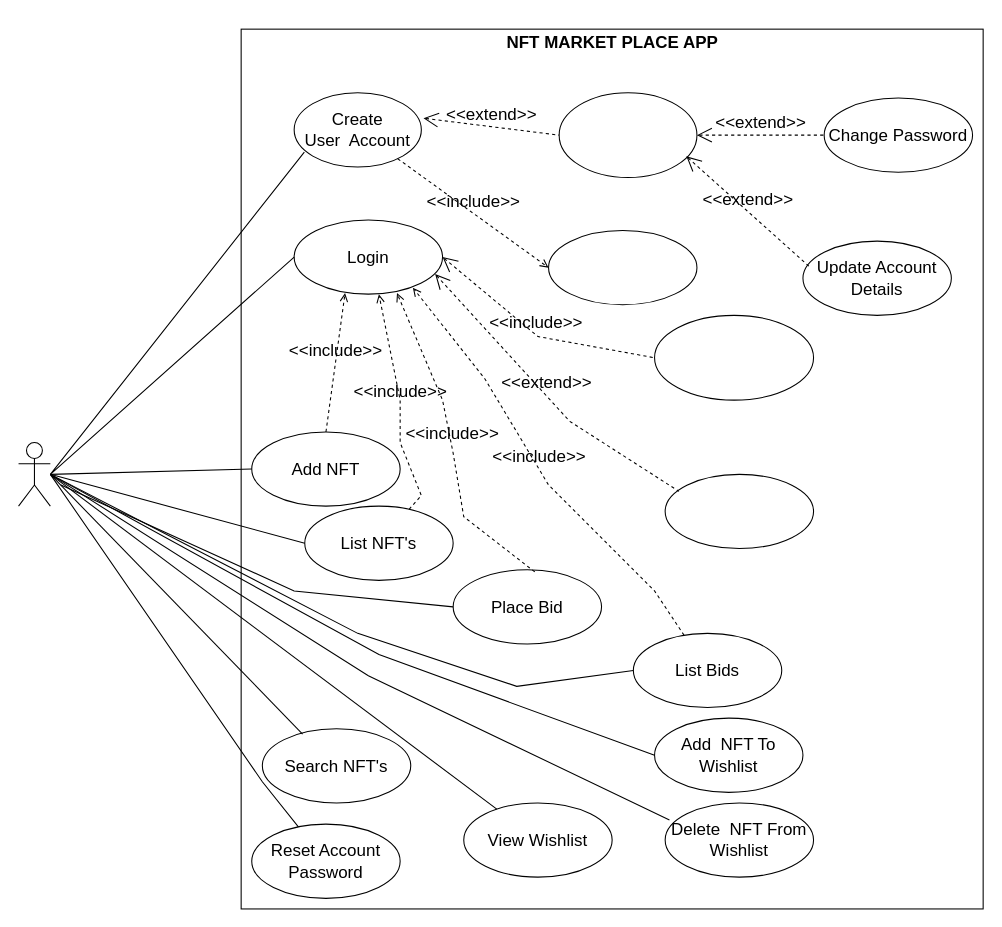
The diagram is 1002 pixels wide and 927 high, and some of its shapes have lost their labels. Each missing label, with the box of its shape:
Biometric Authentication: (664, 473, 814, 549)
Password & Email Authentication: (653, 314, 814, 400)
User: (17, 441, 50, 506)
User Account Management: (558, 92, 697, 178)
User Account Verification: (547, 229, 697, 305)
